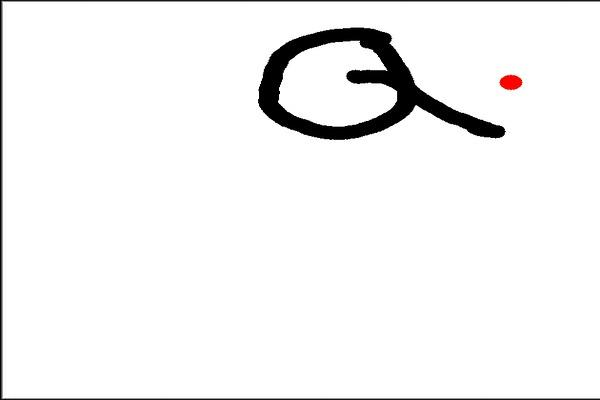Q: (254, 19, 490, 164)
